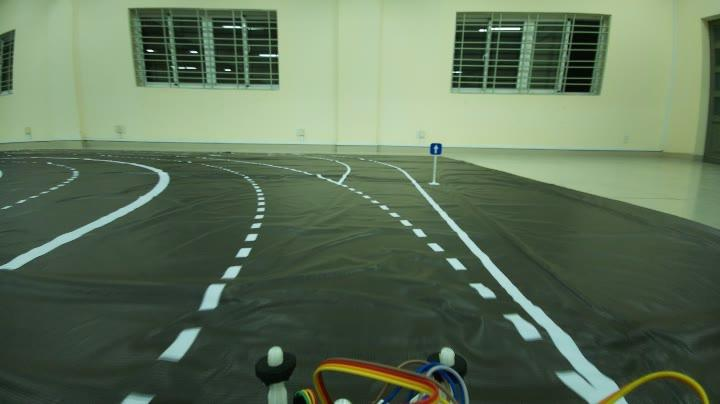onewayroad: (426, 136, 447, 164)
